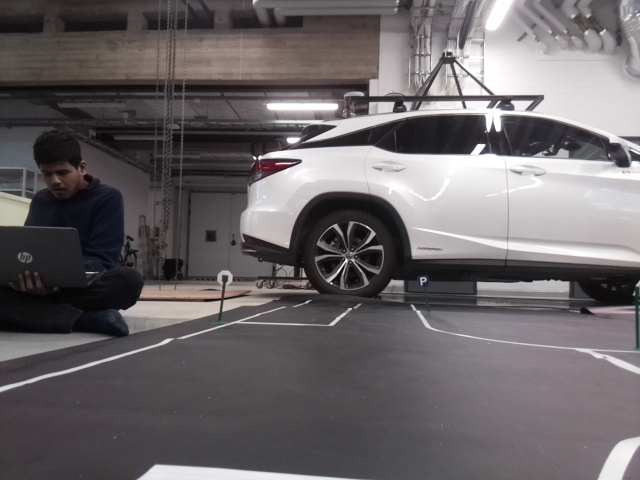Parking: (417, 276, 427, 285)
